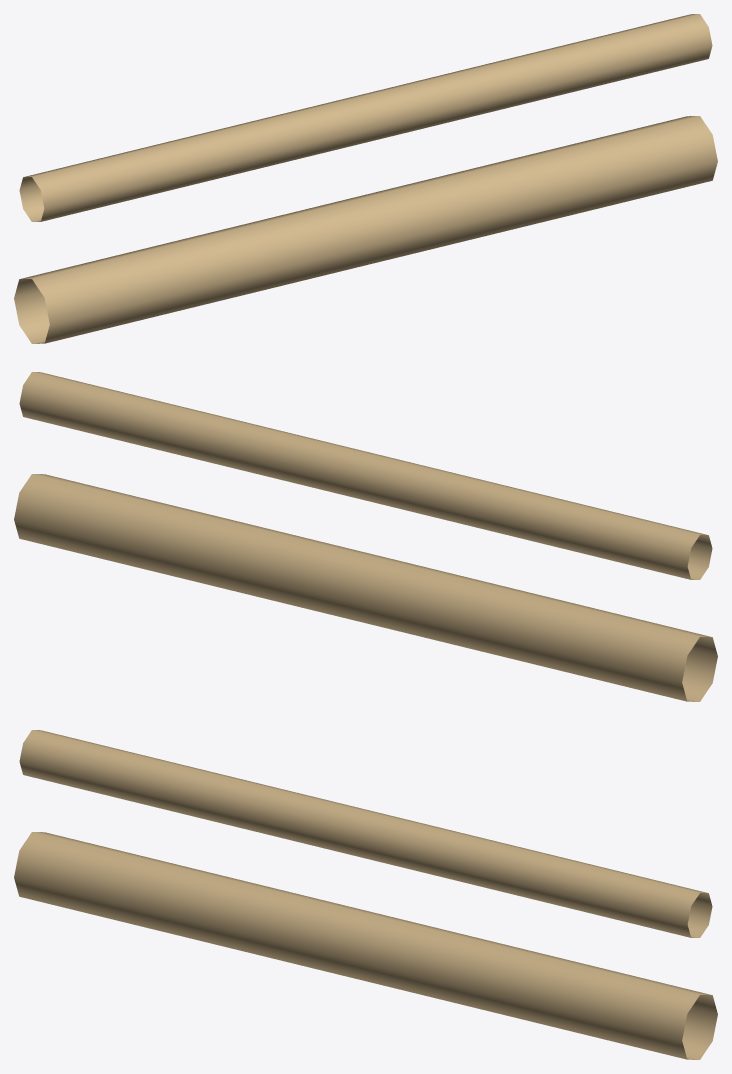
The model's file is Mesh_Barrier.fbx.
The picture shows the model from 3 angles, top to bottom: view 1: azimuth 30°, elevation 25°; view 2: azimuth 150°, elevation 25°; view 3: azimuth 330°, elevation 25°; orthographic projection.
Parts seen in each view (by area): view 1: Barrier; view 2: Barrier; view 3: Barrier.
Boxes of the visible parts, x1,y1,x2,y2 form: Barrier: [14, 14, 717, 343]; Barrier: [14, 372, 717, 701]; Barrier: [14, 730, 717, 1059].
Size of the model in its own units: 159 by 37.87 by 14.75.
